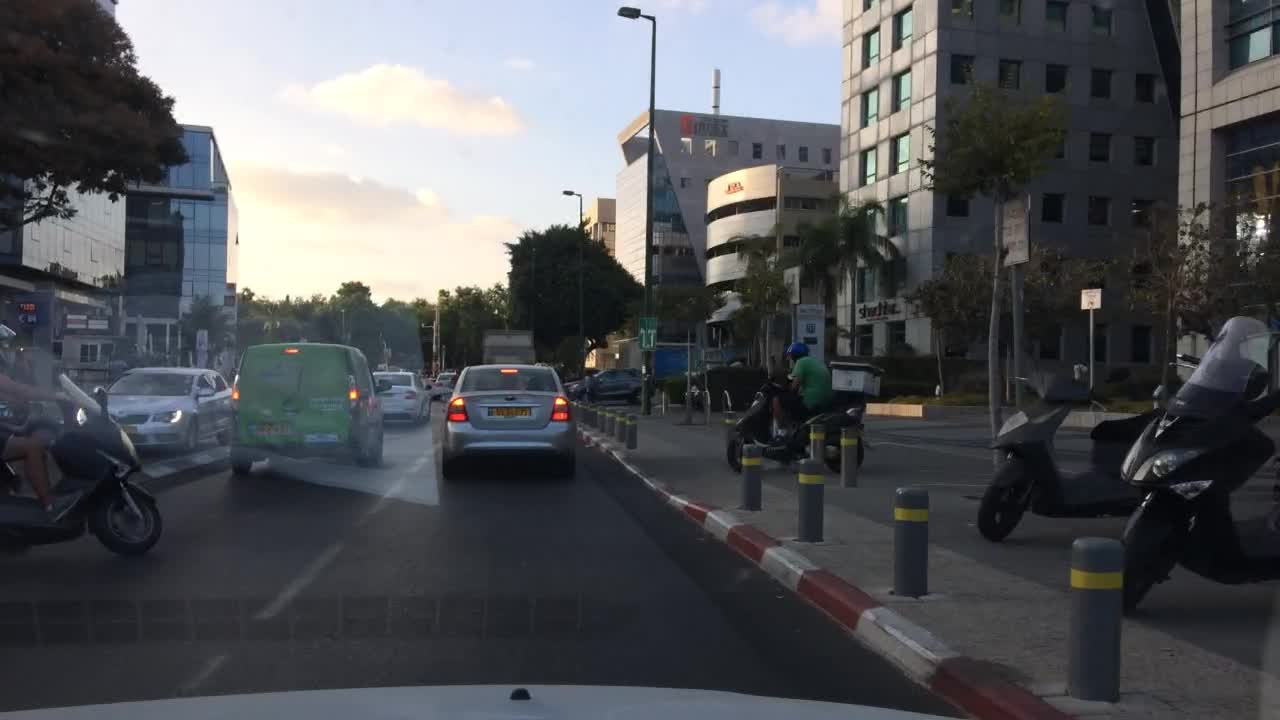car: (225, 341, 388, 473), (435, 361, 580, 486), (91, 364, 234, 455), (375, 366, 431, 426), (567, 364, 649, 404), (433, 371, 458, 392), (423, 377, 438, 398)
motor: (1108, 311, 1279, 619), (974, 352, 1225, 544), (0, 368, 164, 557), (725, 362, 884, 476)
person: (583, 368, 596, 409)
rider: (0, 321, 74, 521), (770, 341, 830, 455)
traffic sign: (637, 318, 658, 348), (1082, 290, 1099, 308)
truck: (478, 327, 537, 368)
